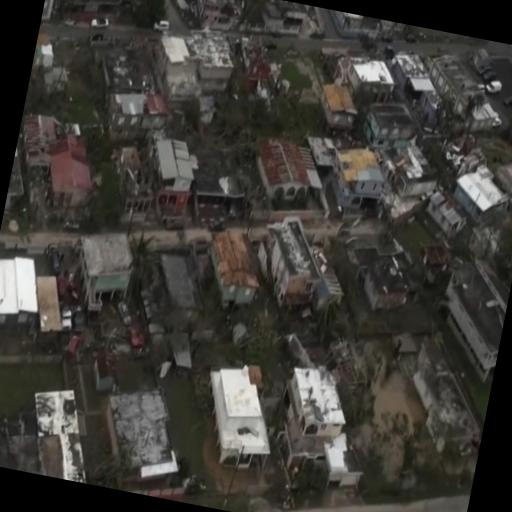flood: (365, 343, 424, 483)
house: (266, 353, 366, 498), (86, 377, 192, 499), (194, 354, 286, 478), (402, 337, 496, 457), (430, 256, 512, 384), (355, 100, 450, 198), (16, 380, 100, 483), (243, 129, 334, 221), (65, 222, 143, 325), (154, 22, 238, 114), (260, 213, 330, 312), (200, 222, 272, 316), (140, 130, 204, 229), (344, 234, 419, 314), (326, 140, 392, 222), (422, 50, 494, 121), (42, 134, 102, 218), (0, 249, 48, 344), (453, 167, 512, 228), (343, 56, 400, 111), (315, 82, 365, 138), (424, 186, 472, 241), (16, 112, 61, 168), (106, 90, 146, 134), (194, 0, 241, 31), (142, 92, 173, 132)
